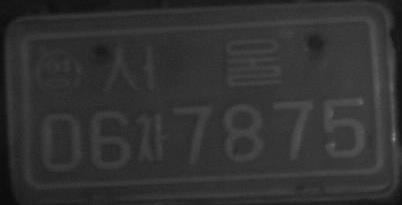0: (39, 111, 82, 172)
5: (322, 95, 365, 160)
6: (89, 109, 130, 171)
7: (172, 104, 214, 166), (272, 99, 313, 162)
8: (221, 102, 264, 164)
서울_D: (99, 35, 283, 94)
영: (35, 46, 84, 99)
차: (135, 112, 168, 161)
